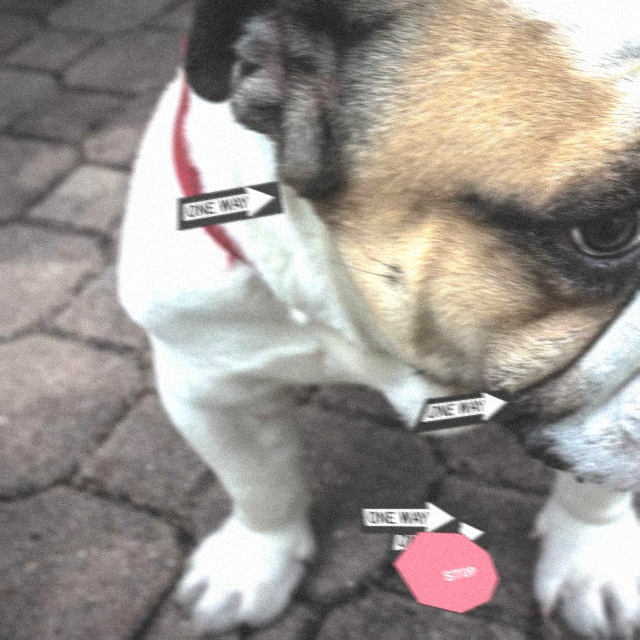ONE_WAY_ right: (176, 181, 283, 232), (409, 389, 516, 435), (384, 517, 491, 561), (355, 501, 462, 536)
STOP: (391, 532, 498, 615)
